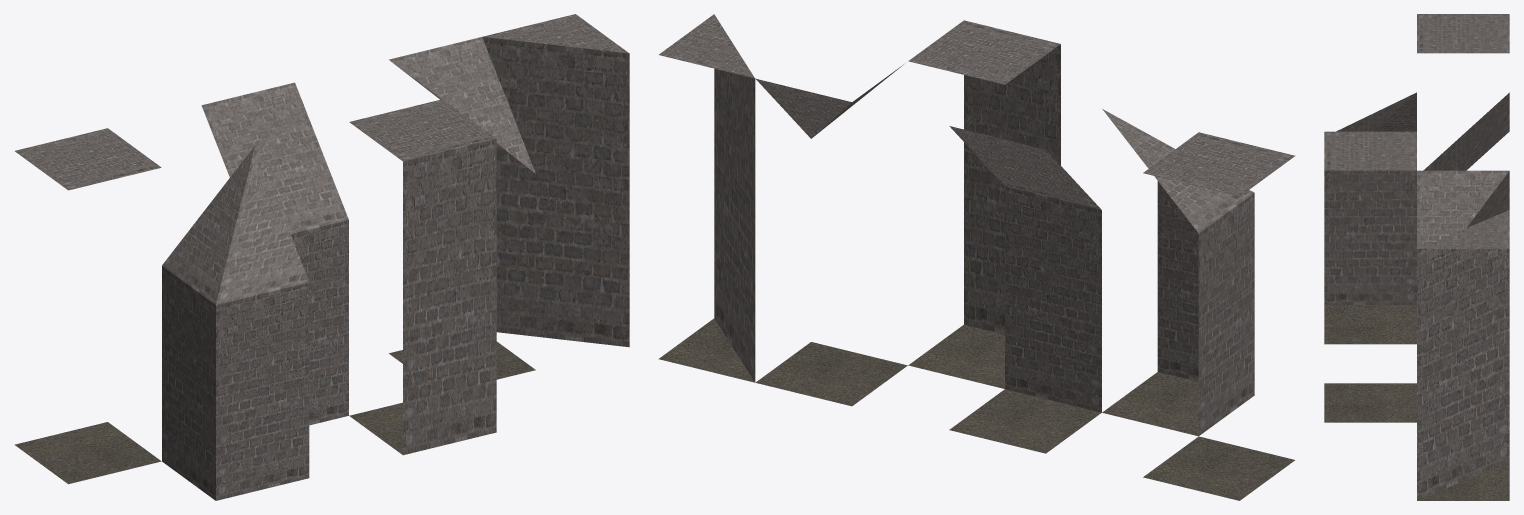
Rendered from tileset421fbx.fbx.
The picture shows the model from 3 angles, left to right: view 1: azimuth 30°, elevation 25°; view 2: azimuth 150°, elevation 25°; view 3: azimuth 270°, elevation 25°; orthographic projection. The views are drawn at different scales.
Parts seen in each view (by area): view 1: wallcornerin-col, pillartile-col, walltiletall-col, walltile-col, FCTile-col, wallcornerout-col; view 2: walltile-col, wallcornerin-col, walltiletall-col, pillartile-col, FCTile-col, wallcornerout-col; view 3: pillartile-col, wallcornerin-col, walltiletall-col, wallcornerout-col, FCTile-col, walltile-col.
Boxes of the visible parts, box(x1,y1,x2,y2) form: wallcornerin-col: box(162, 145, 309, 500); pillartile-col: box(482, 14, 629, 347); walltiletall-col: box(349, 99, 496, 455); walltile-col: box(201, 82, 348, 425); FCTile-col: box(14, 128, 161, 484); wallcornerout-col: box(389, 37, 535, 379); walltile-col: box(949, 126, 1101, 453); wallcornerin-col: box(1102, 109, 1254, 436); walltiletall-col: box(908, 20, 1060, 388); pillartile-col: box(658, 14, 755, 382); FCTile-col: box(1143, 132, 1295, 500); wallcornerout-col: box(755, 64, 907, 406); pillartile-col: box(1417, 210, 1509, 500); wallcornerin-col: box(1324, 92, 1416, 344); walltiletall-col: box(1324, 131, 1416, 422); wallcornerout-col: box(1417, 170, 1509, 248); FCTile-col: box(1417, 14, 1509, 53); walltile-col: box(1423, 92, 1509, 170).
Size of the model in its own units: 600 by 300 by 200.
Materials: 2 (2 with a texture image).
